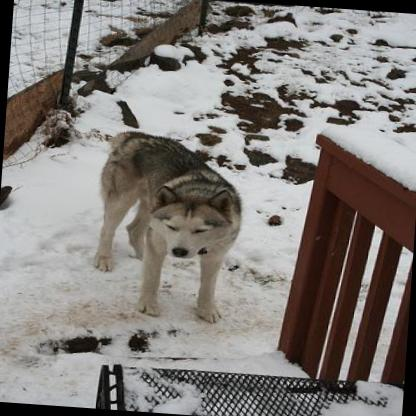Siberian_husky: (81, 127, 247, 324)
